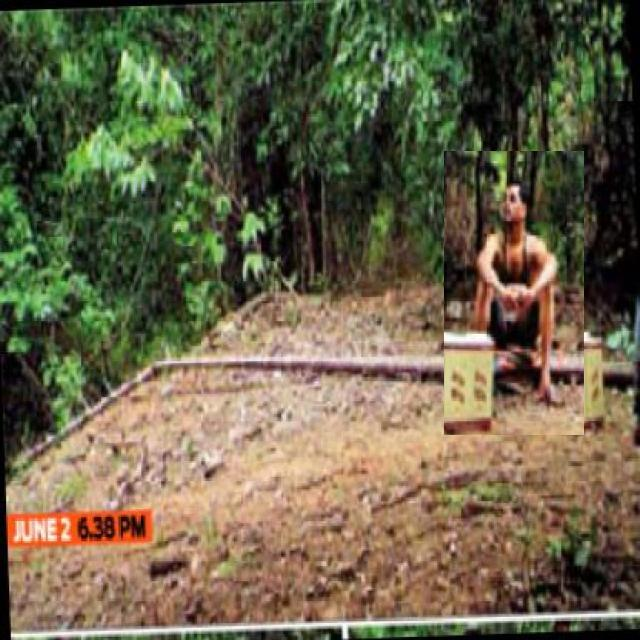poacher: (444, 151, 584, 435)
